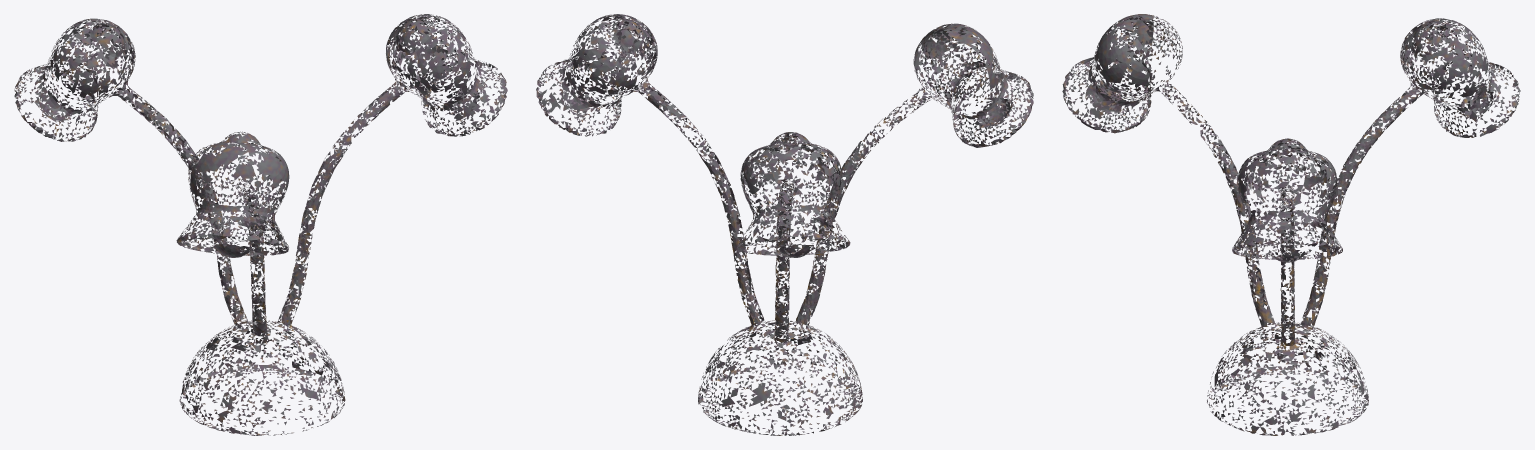
Rendered from lamp_final600.obj.
3 views of the same model, side by side, from view 1: azimuth 30°, elevation 25°; view 2: azimuth 150°, elevation 25°; view 3: azimuth 270°, elevation 25° (orthographic).
Size of the model in its own units: 1.59 by 1.32 by 1.62.
